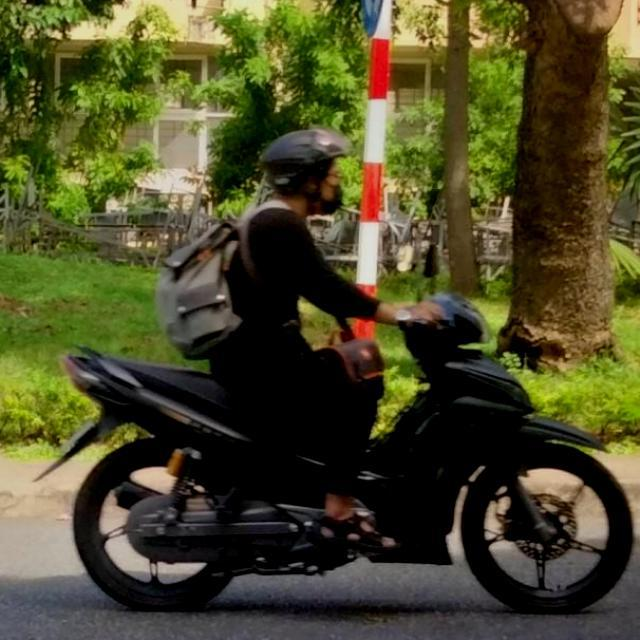Helmet: (260, 128, 346, 216)
